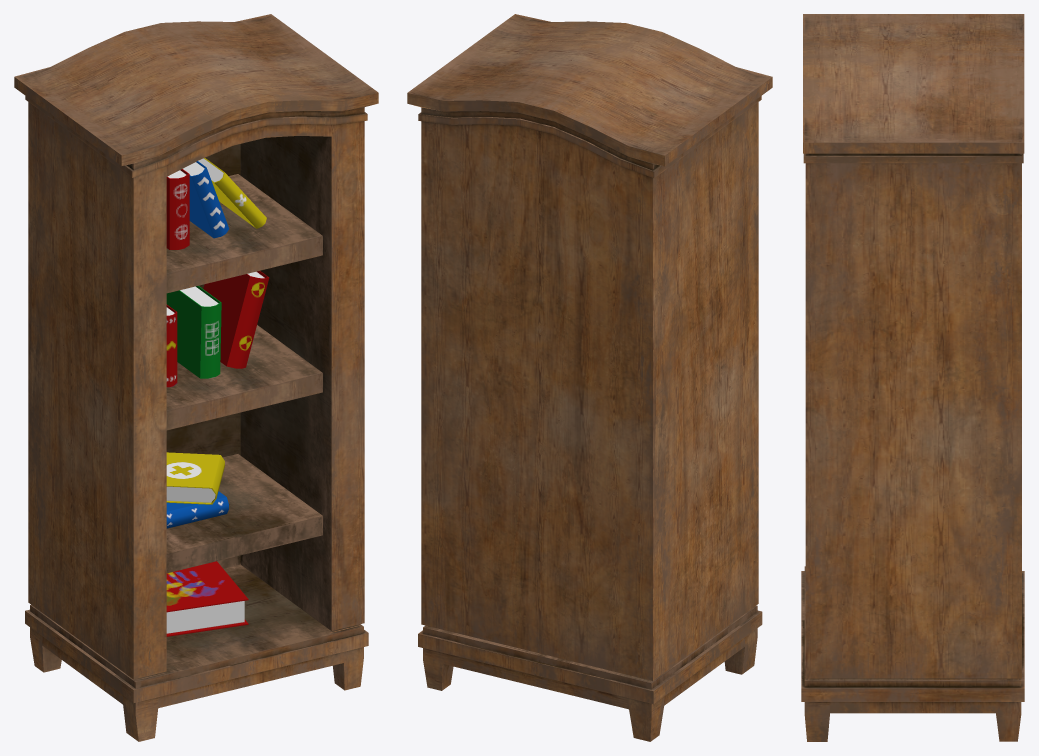
The model's file is librera.obj.
3 views of the same model, side by side, from view 1: azimuth 30°, elevation 25°; view 2: azimuth 150°, elevation 25°; view 3: azimuth 270°, elevation 25° (orthographic). The views are drawn at different scales.
Parts seen in each view (by area): view 1: Null_Mesh, Cube_11_Mesh.001; view 2: Null_Mesh; view 3: Null_Mesh.
Part boxes in pixels (left/top/right/bottom): Null_Mesh: left=14, top=14, right=378, bottom=741; Cube_11_Mesh.001: left=166, top=158, right=269, bottom=636; Null_Mesh: left=407, top=14, right=772, bottom=741; Null_Mesh: left=801, top=14, right=1024, bottom=741.
Size of the model in its own units: 2.22 by 5.04 by 1.63.
